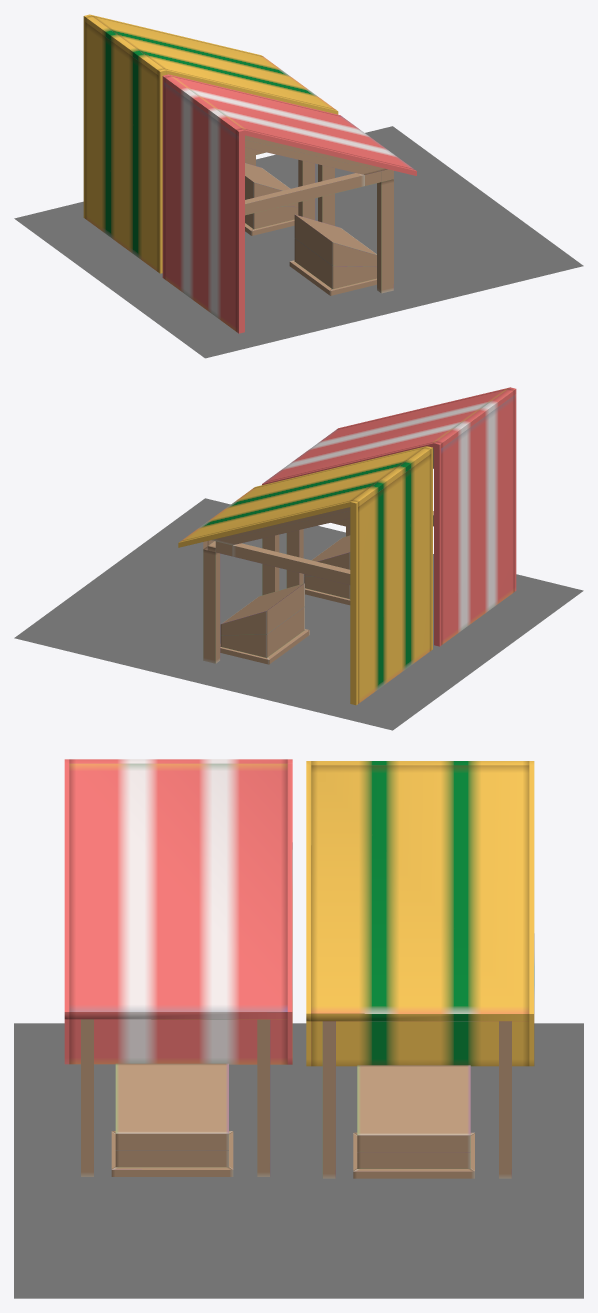
File: Market Stalls.fbx
The picture shows the model from 3 angles, top to bottom: view 1: azimuth 30°, elevation 25°; view 2: azimuth 150°, elevation 25°; view 3: azimuth 270°, elevation 25°; orthographic projection. The views are drawn at different scales.
Parts seen in each view (by area): view 1: Market Stalls; view 2: Market Stalls; view 3: Market Stalls.
Part boxes in pixels (x1,y1,x2,y2): Market Stalls: (14, 14, 583, 358); Market Stalls: (14, 387, 583, 730); Market Stalls: (14, 759, 583, 1298).
Bounding box in the file's own units: 88.81 × 45.56 × 77.64.
